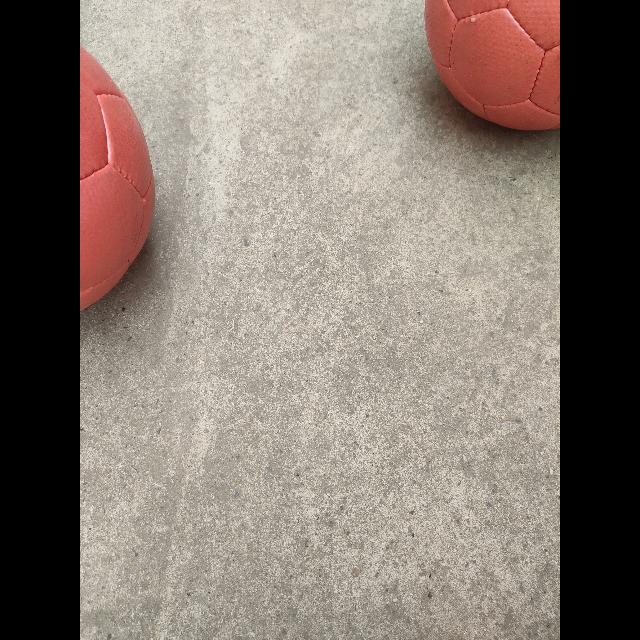R: (80, 23, 156, 314), (424, 2, 560, 132)
